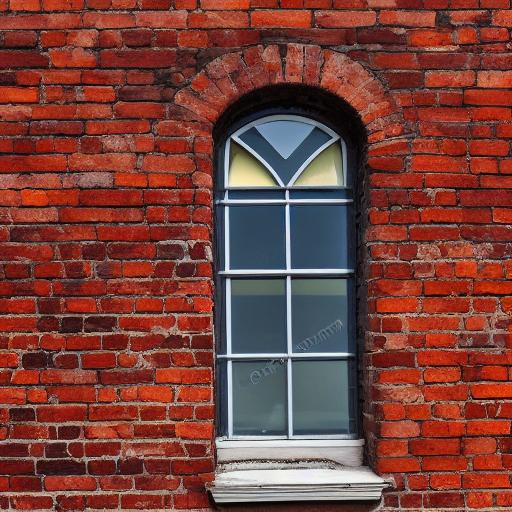Window: (162, 41, 415, 504)
